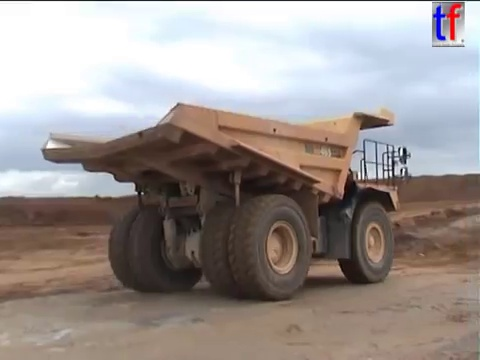truck: (38, 99, 412, 303)
